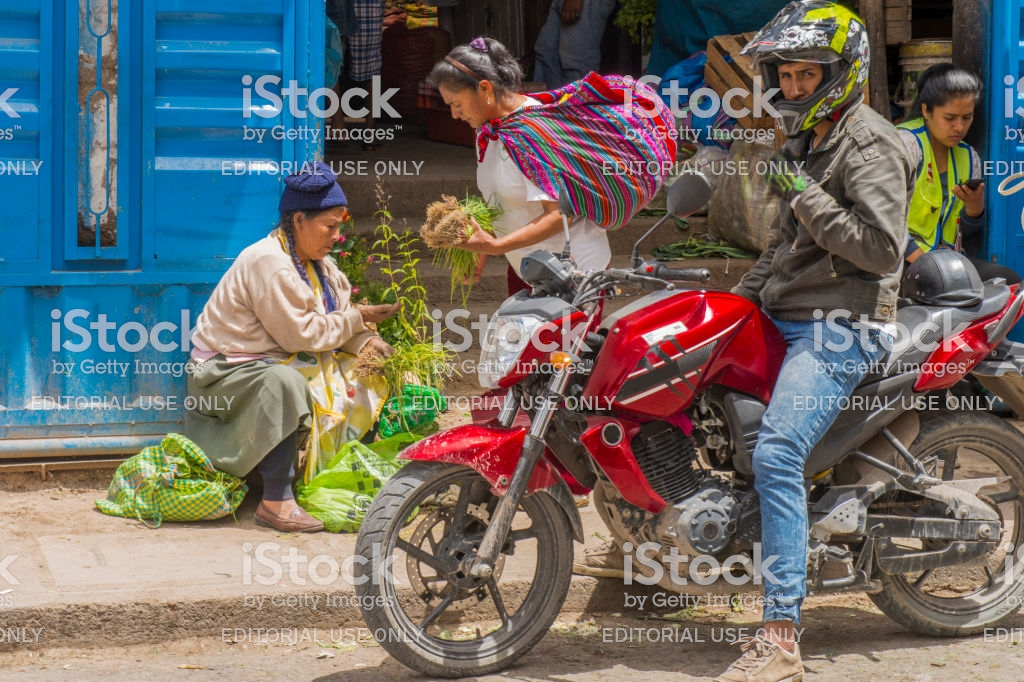helmet: (753, 1, 874, 133)
